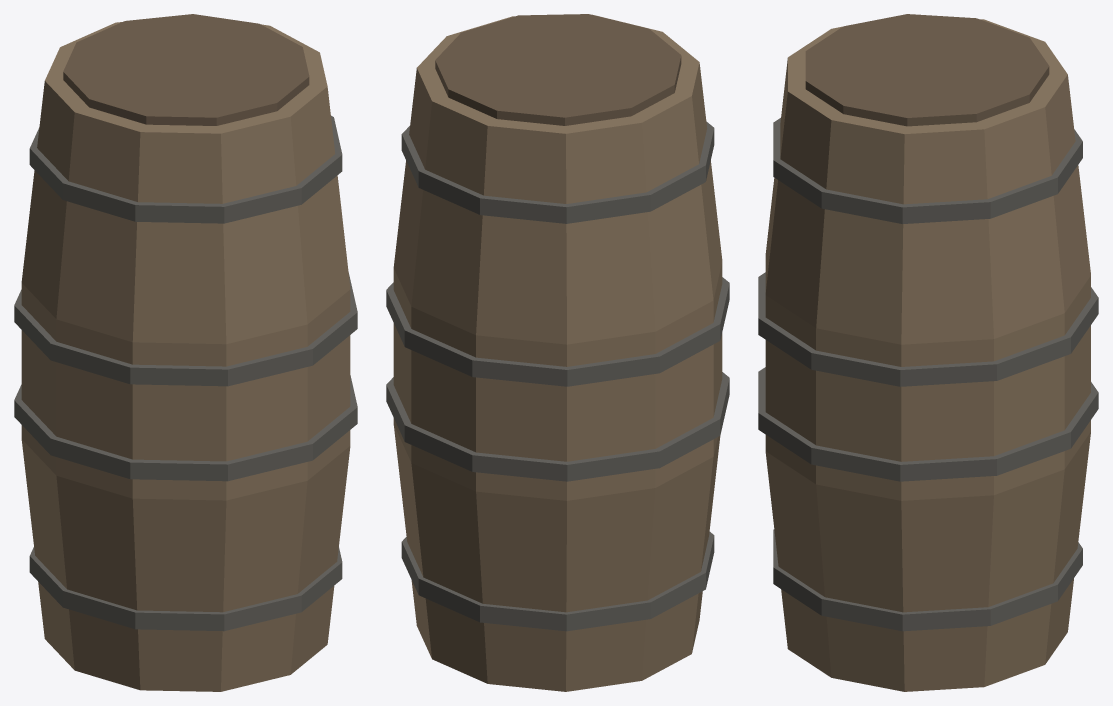
The model's file is barrel_1_2.glb.
The picture shows the model from 3 angles, left to right: view 1: azimuth 30°, elevation 25°; view 2: azimuth 150°, elevation 25°; view 3: azimuth 270°, elevation 25°; orthographic projection.
Parts seen in each view (by area): view 1: Barrel_1_2; view 2: Barrel_1_2; view 3: Barrel_1_2.
Boxes of the visible parts, <box> form: Barrel_1_2: <box>14,14,357,691</box>; Barrel_1_2: <box>386,14,729,691</box>; Barrel_1_2: <box>758,14,1098,691</box>.
Bounding box in the file's own units: 0.5583 × 1.01 × 0.5526.
